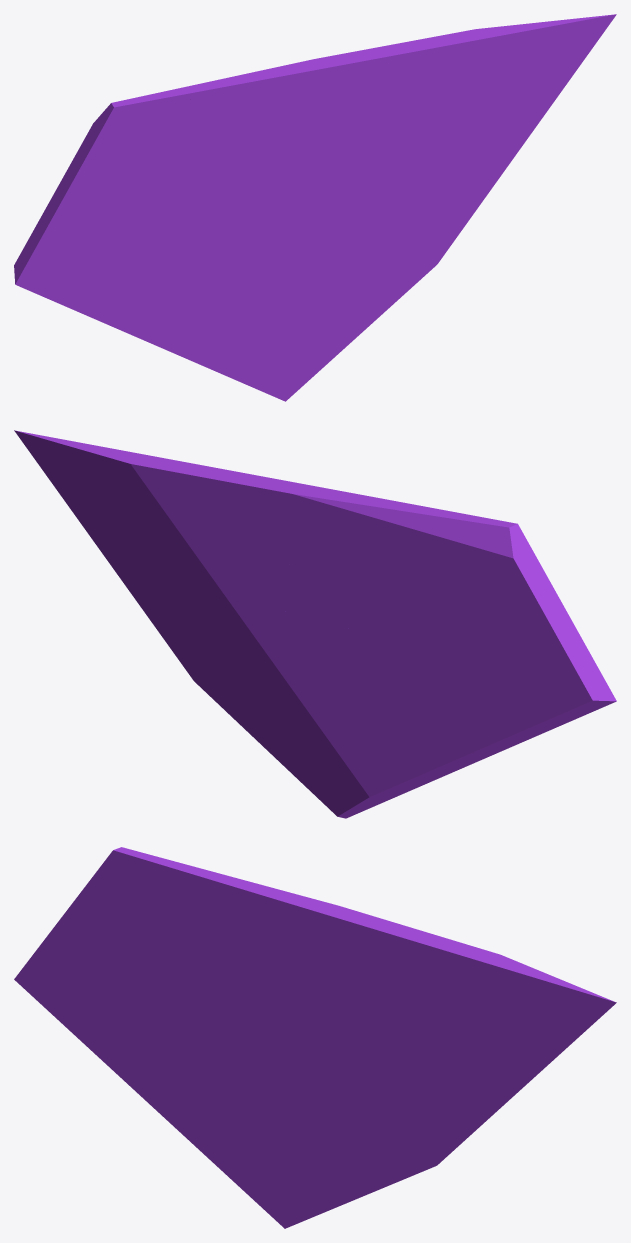
Rendered from Glass_3_4_chunks.fbx.
3 views of the same model, one above another, from view 1: azimuth 30°, elevation 25°; view 2: azimuth 150°, elevation 25°; view 3: azimuth 330°, elevation 25° (orthographic).
Parts seen in each view (by area): view 1: Glass_3_4_1, Glass_3_4_2, Glass_3_4_0, Glass_3_4_3, Glass_3_4_5, Glass_3_4_4, Glass_3_4_6; view 2: Glass_3_4_0, Glass_3_4_1, Glass_3_4_5, Glass_3_4_4, Glass_3_4_3, Glass_3_4_6, Glass_3_4_2; view 3: Glass_3_4_1, Glass_3_4_2, Glass_3_4_0, Glass_3_4_3, Glass_3_4_5, Glass_3_4_4, Glass_3_4_6.
Part boxes in pixels (left/top/right/bottom): Glass_3_4_1: left=182, top=124, right=537, bottom=401; Glass_3_4_2: left=54, top=91, right=264, bottom=261; Glass_3_4_0: left=14, top=117, right=223, bottom=356; Glass_3_4_3: left=299, top=93, right=559, bottom=190; Glass_3_4_5: left=348, top=14, right=616, bottom=94; Glass_3_4_4: left=167, top=77, right=311, bottom=200; Glass_3_4_6: left=222, top=53, right=394, bottom=123; Glass_3_4_0: left=356, top=539, right=616, bottom=775; Glass_3_4_1: left=93, top=541, right=448, bottom=818; Glass_3_4_5: left=14, top=430, right=302, bottom=565; Glass_3_4_4: left=294, top=503, right=450, bottom=630; Glass_3_4_3: left=72, top=511, right=304, bottom=616; Glass_3_4_6: left=236, top=471, right=408, bottom=537; Glass_3_4_2: left=442, top=510, right=576, bottom=629; Glass_3_4_1: left=181, top=1017, right=537, bottom=1228; Glass_3_4_2: left=53, top=847, right=264, bottom=1058; Glass_3_4_0: left=14, top=928, right=222, bottom=1133; Glass_3_4_3: left=298, top=957, right=558, bottom=1074; Glass_3_4_5: left=362, top=916, right=616, bottom=1054; Glass_3_4_4: left=180, top=863, right=311, bottom=1024; Glass_3_4_6: left=221, top=881, right=394, bottom=963.
Bounding box in the file's own units: 746 × 398 × 27.2.
